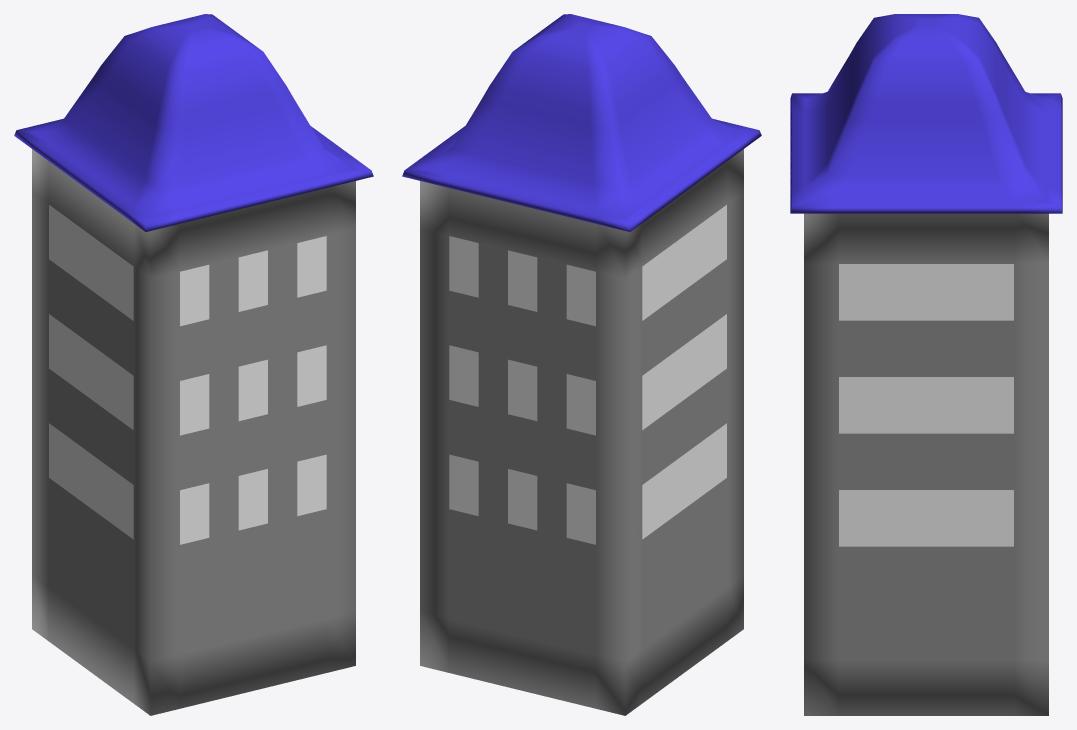
Rendered from edificio_2.glb.
3 views of the same model, side by side, from view 1: azimuth 30°, elevation 25°; view 2: azimuth 150°, elevation 25°; view 3: azimuth 270°, elevation 25° (orthographic). The views are drawn at different scales.
Visible parts, largest first — view 1: edificio_2; view 2: edificio_2; view 3: edificio_2.
Boxes of the visible parts, bbox=[...] form: edificio_2: bbox=[14, 14, 373, 715]; edificio_2: bbox=[402, 14, 761, 715]; edificio_2: bbox=[790, 14, 1062, 715].
Size of the model in its own units: 4.44 by 11.54 by 4.44.
